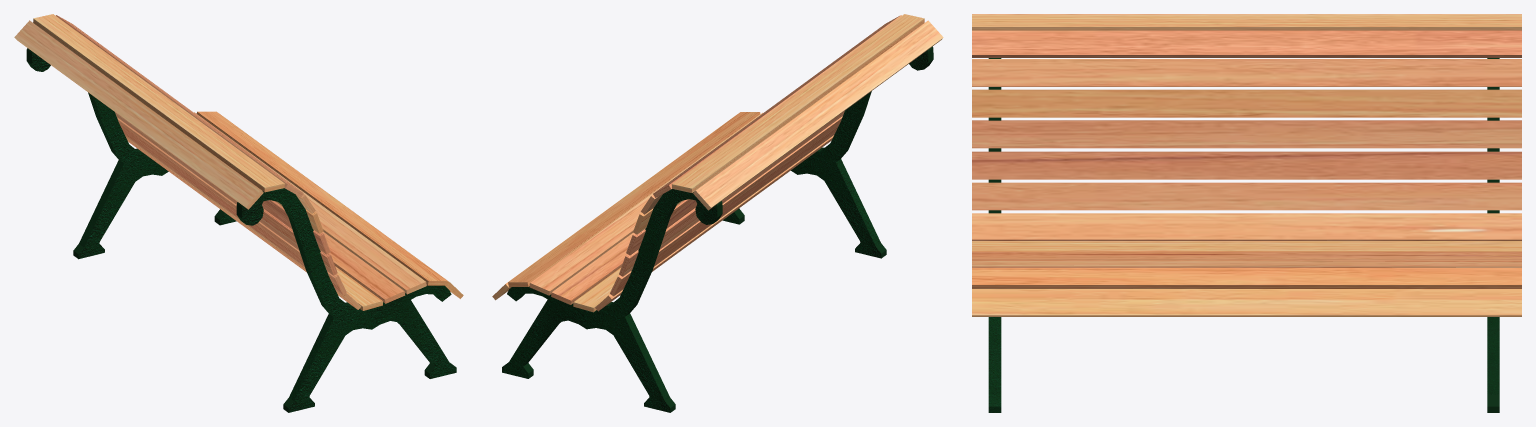
Rendered from banca.glb.
3 views of the same model, side by side, from view 1: azimuth 30°, elevation 25°; view 2: azimuth 150°, elevation 25°; view 3: azimuth 270°, elevation 25° (orthographic). The views are drawn at different scales.
Visible parts, largest first — view 1: Object_5, Object_4; view 2: Object_5, Object_4; view 3: Object_5, Object_4.
Part boxes in pixels (x1=…): Object_5: x1=14, y1=14, x2=463, y2=310; Object_4: x1=26, y1=48, x2=456, y2=412; Object_5: x1=492, y1=14, x2=943, y2=312; Object_4: x1=502, y1=46, x2=933, y2=412; Object_5: x1=972, y1=14, x2=1521, y2=316; Object_4: x1=988, y1=58, x2=1499, y2=412.
Size of the model in its own units: 1.63 by 1.71 by 3.01.
2 materials, 2 textured.
